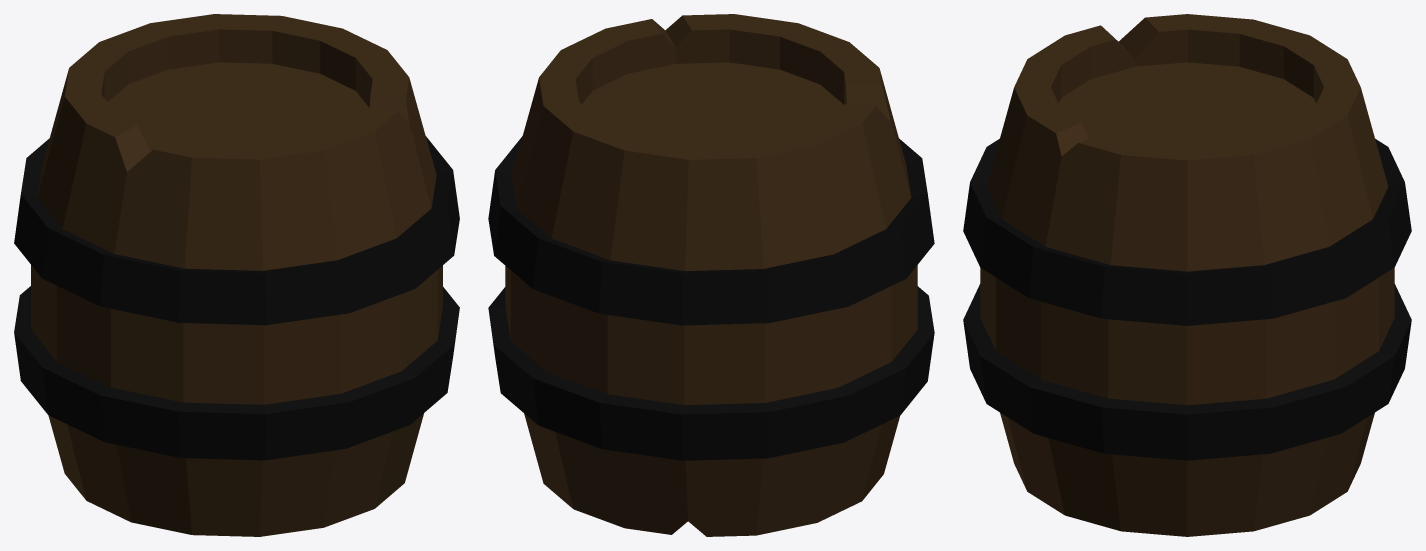
Rendered from barrel.gltf.
3 renders of one model, left to right at view 1: azimuth 30°, elevation 25°; view 2: azimuth 150°, elevation 25°; view 3: azimuth 270°, elevation 25°, orthographic.
Parts seen in each view (by area): view 1: Cylinder; view 2: Cylinder; view 3: Cylinder.
Boxes of the visible parts, left/top/right/bottom form: Cylinder: left=14, top=14, right=459, bottom=536; Cylinder: left=488, top=14, right=934, bottom=536; Cylinder: left=963, top=14, right=1411, bottom=536.
Bounding box in the file's own units: 2.59 × 2.4 × 2.59.
